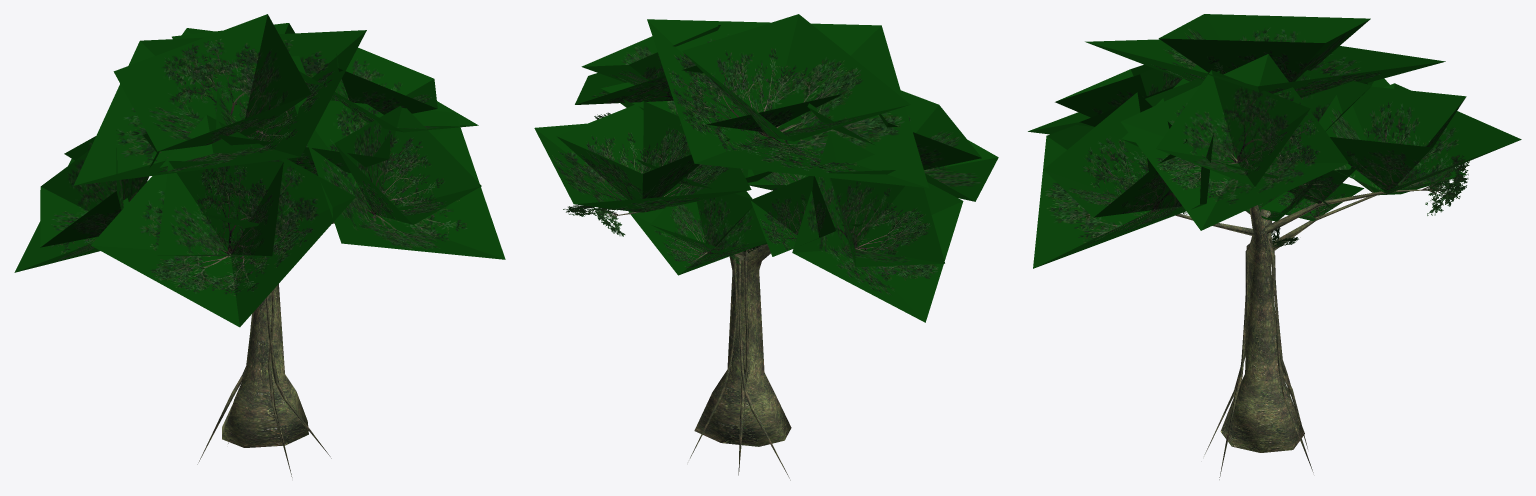
The model's file is decd_treecanopy_a3_l0.fbx.
The picture shows the model from 3 angles, left to right: view 1: azimuth 30°, elevation 25°; view 2: azimuth 150°, elevation 25°; view 3: azimuth 270°, elevation 25°; orthographic projection. The views are drawn at different scales.
Parts seen in each view (by area): view 1: mesh_node; view 2: mesh_node; view 3: mesh_node.
Boxes of the visible parts, <box> form: mesh_node: <box>14,14,505,477</box>; mesh_node: <box>534,14,998,480</box>; mesh_node: <box>1028,14,1521,479</box>.
Bounding box in the file's own units: 30.36 × 30.32 × 31.14.
